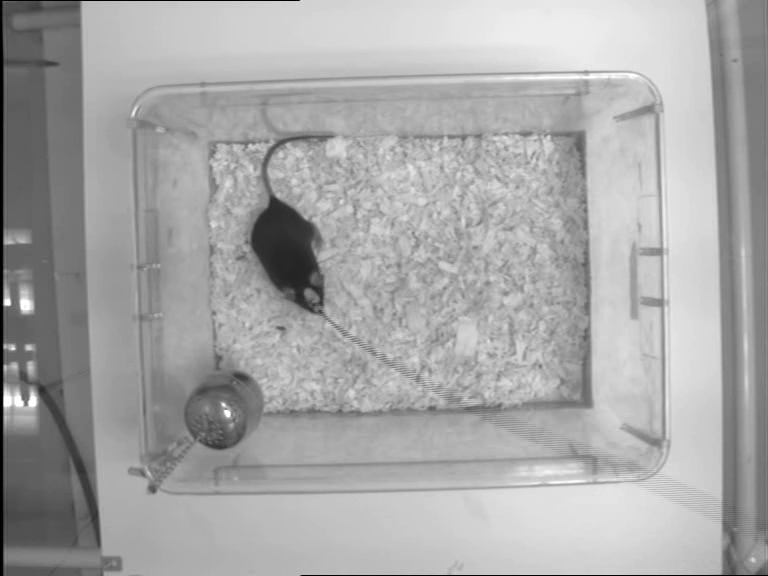mice: (252, 131, 327, 316)
